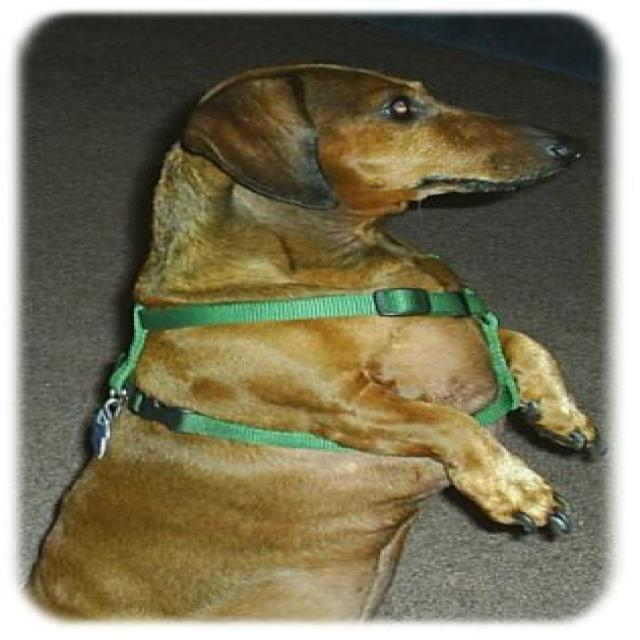Dogs: (22, 60, 602, 622)
